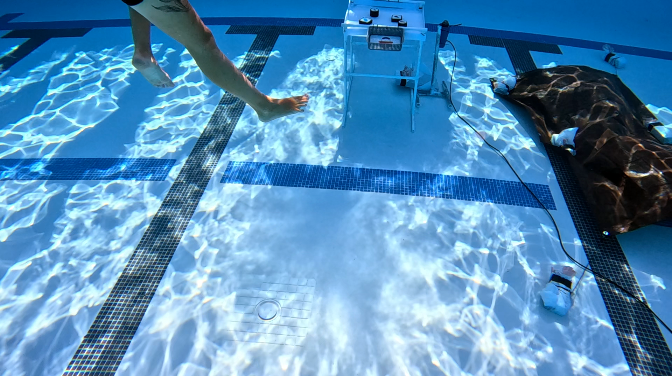sandbag: (487, 65, 671, 243)
